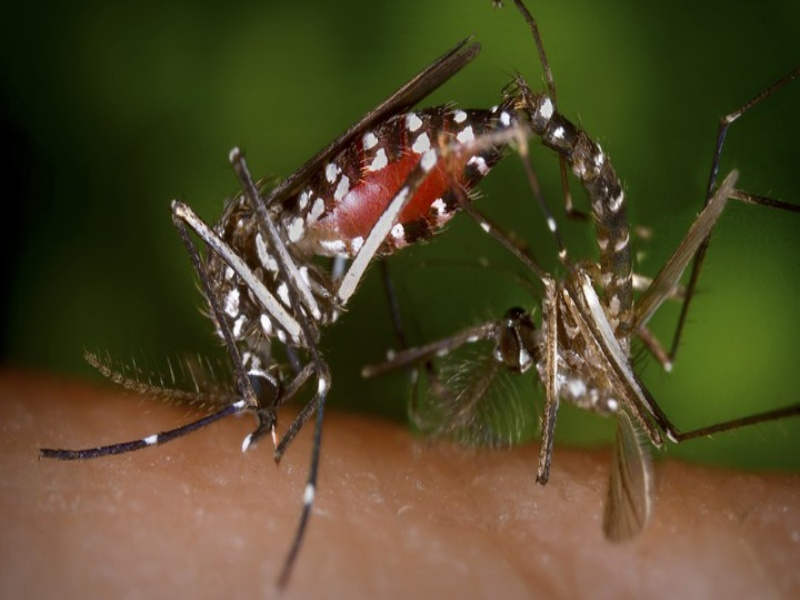dengue_mosquito: (155, 42, 676, 460)
